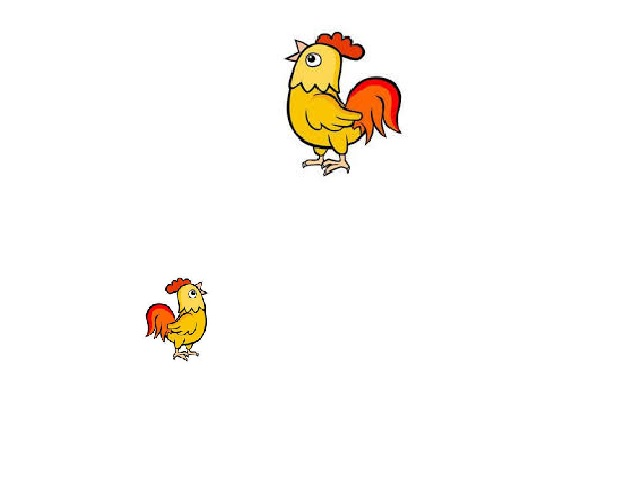crown: (318, 36, 366, 59), (162, 279, 195, 290)
eyes: (306, 49, 322, 68), (190, 291, 198, 300)
feet: (301, 151, 356, 176), (172, 347, 201, 361)
tail: (347, 76, 403, 145), (142, 303, 177, 341)
